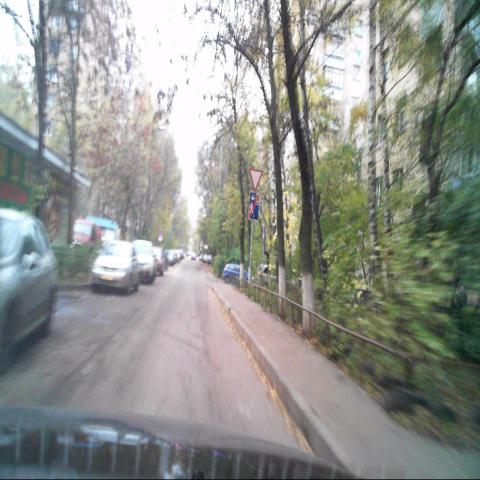5_22: (248, 192, 259, 218)
